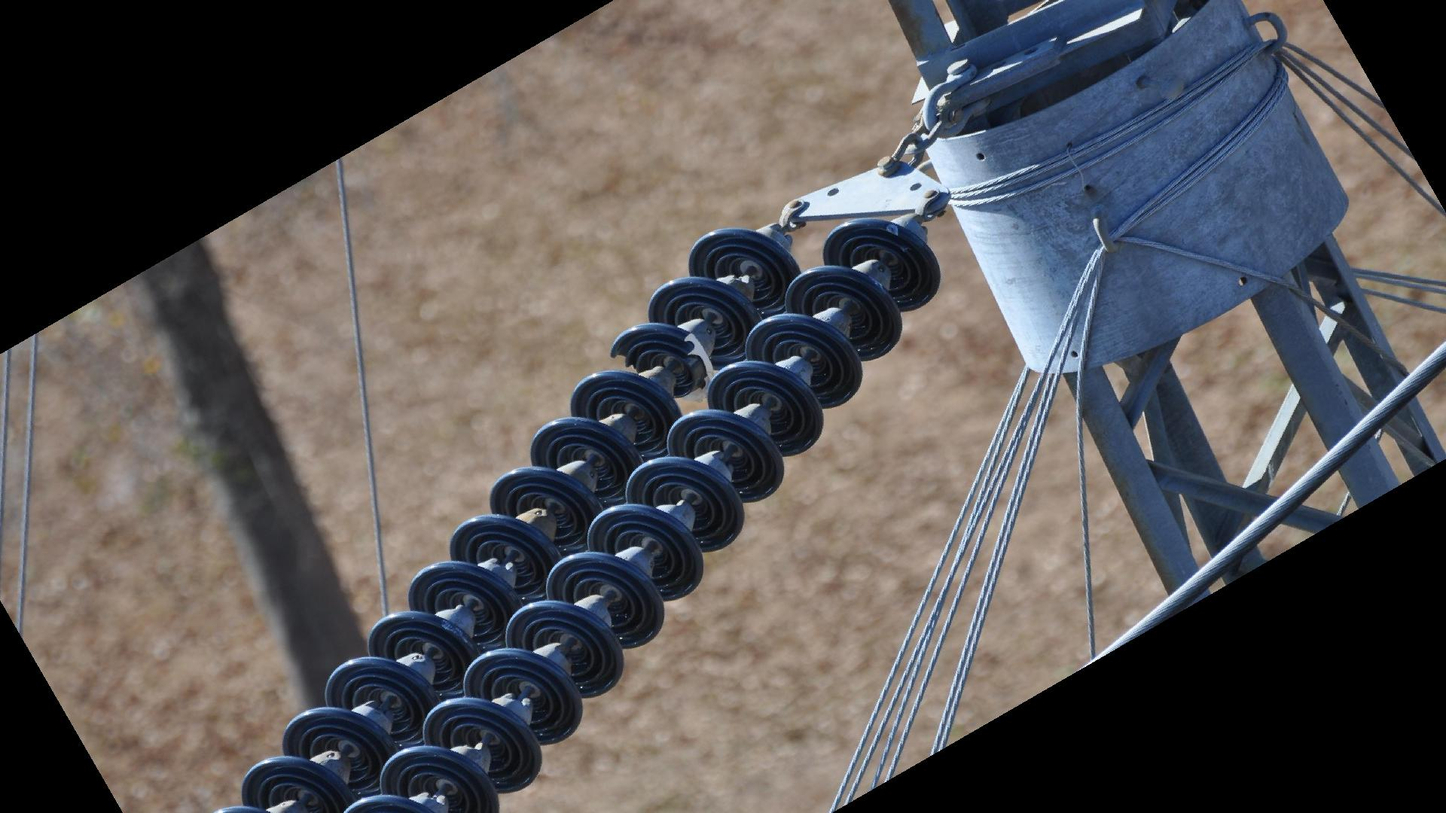insulator: (207, 212, 948, 813)
insulator_breakage: (680, 330, 717, 404), (604, 345, 642, 375)
